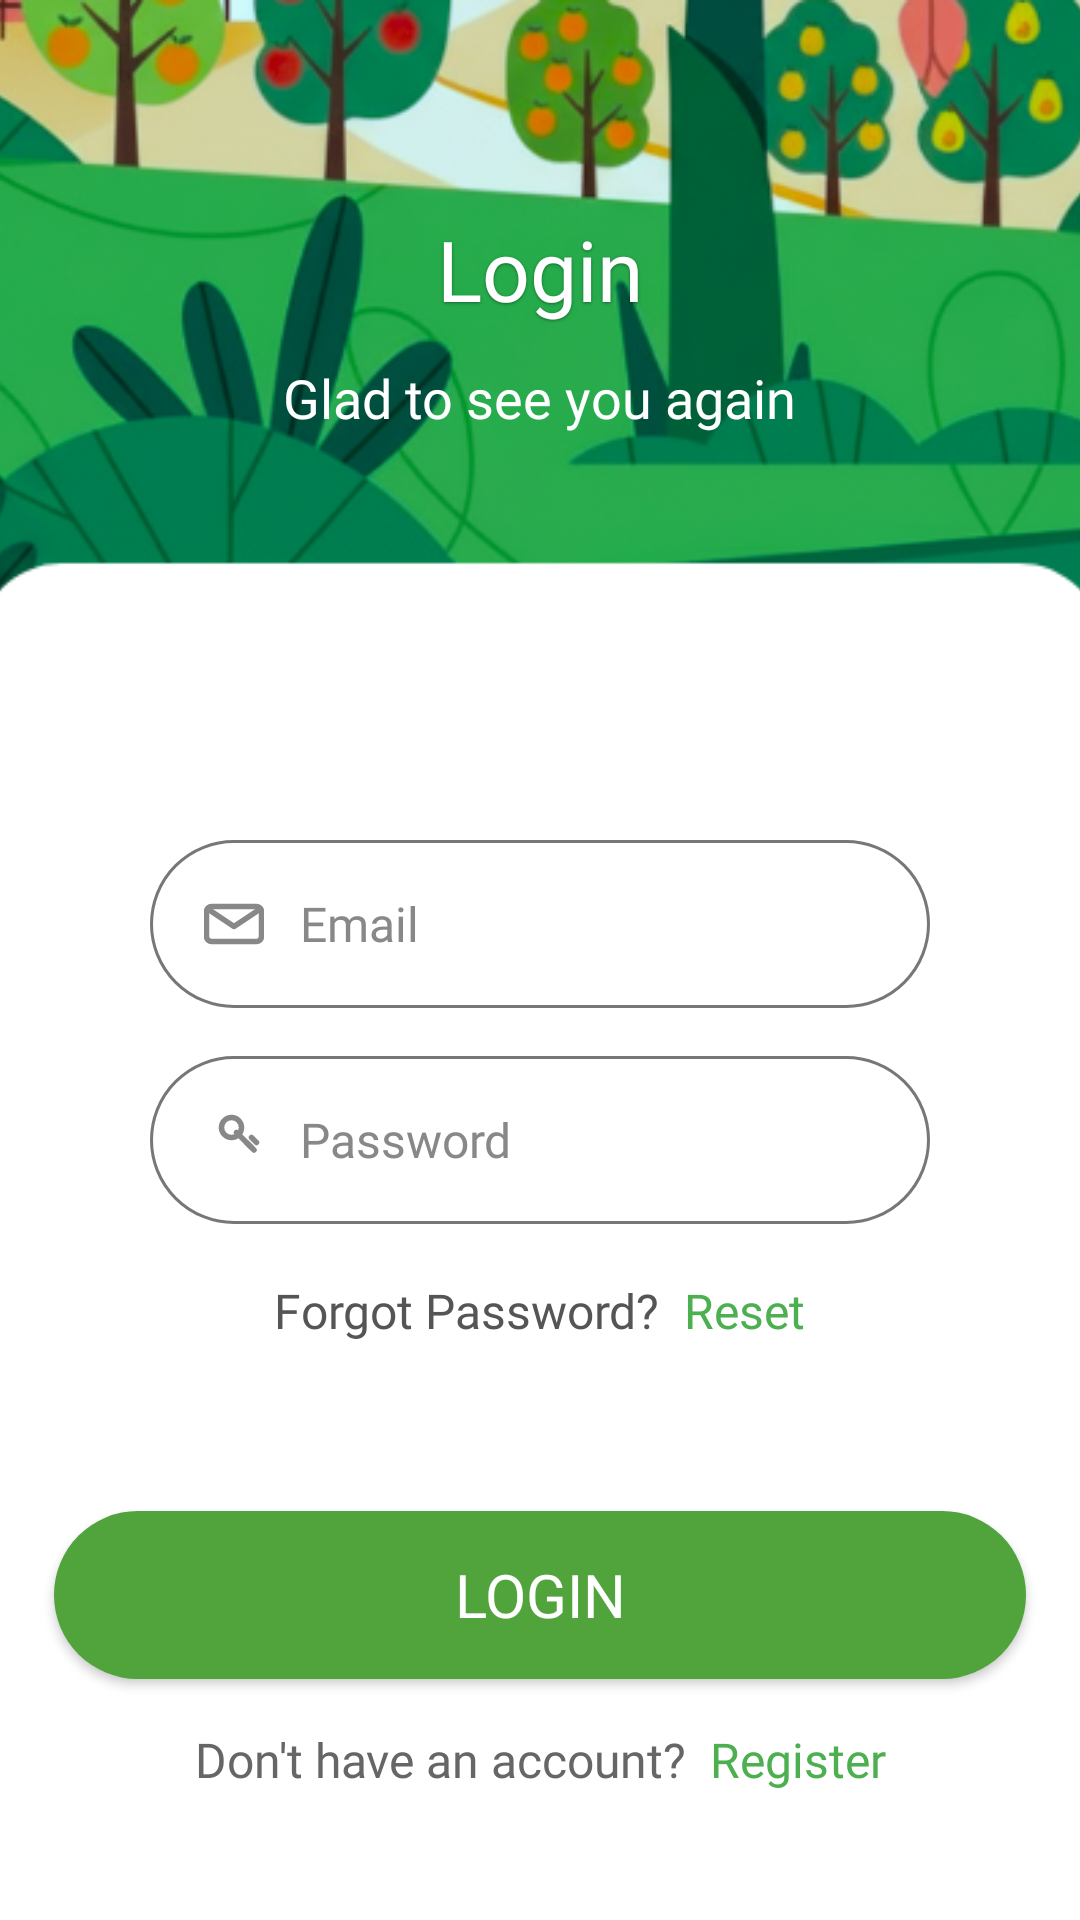

Icons on this 1080×1920 Android screen, each with its box as bbox(x1, y1, x2, y2):
key: bbox(218, 1114, 260, 1153)
